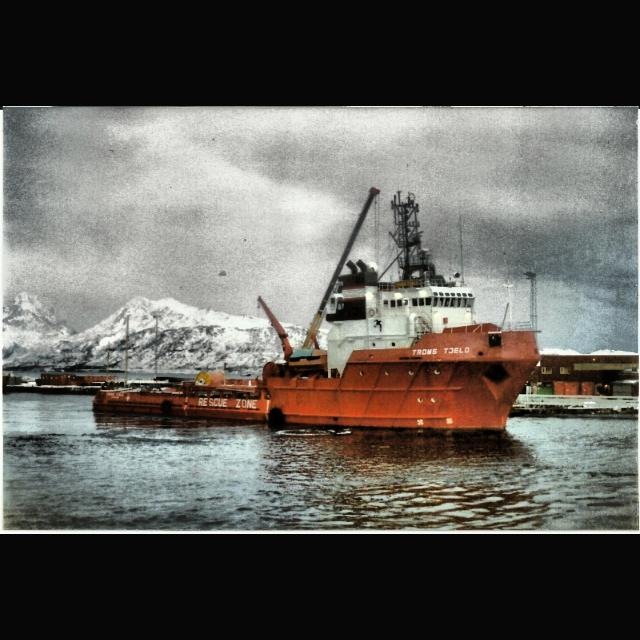anchor_handling_tug_supply: (93, 248, 543, 438)
